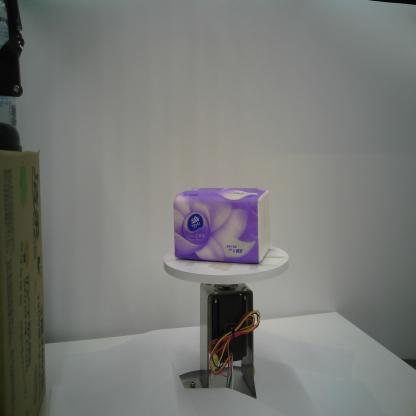Tissue: (170, 184, 273, 266)
